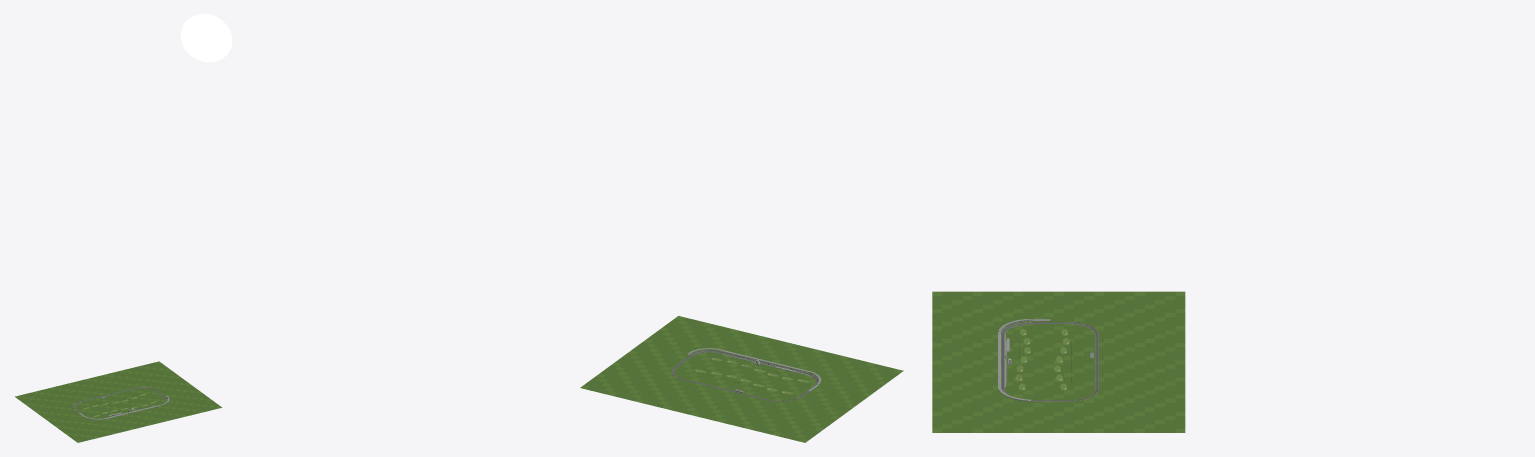
Rendered from brickyard.glb.
3 views of the same model, side by side, from view 1: azimuth 30°, elevation 25°; view 2: azimuth 150°, elevation 25°; view 3: azimuth 270°, elevation 25° (orthographic). The views are drawn at different scales.
Parts seen in each view (by area): view 1: Sun, Land_022, Land_005, Land_008, Land_028, Land_036, Land_047, Land_010, Land_019, Land_011, Land_046, Land_035 (+14 smaller); view 2: Land_022, Land_008, Land_005, Land_028, Land_036, Land_010, Land_047, Land_019, Land_046, Land_011, Land_016, Land_035 (+8 smaller); view 3: Land_022, Land_008, Land_005, Land_028, Land_010, Land_036, Land_047, Land_019, Land_046, Land_011, Land_016, Land_042 (+22 smaller).
Part boxes in pixels (x1,y1,x2,y2): Sun: (180,14,232,62); Land_022: (129,361,176,390); Land_005: (141,362,186,392); Land_008: (85,376,130,403); Land_028: (17,394,88,414); Land_036: (156,394,217,415); Land_047: (58,414,109,442); Land_010: (50,382,93,402); Land_019: (154,399,221,415); Land_011: (15,392,78,413); Land_046: (48,408,102,426); Land_035: (135,398,182,421); Land_022: (580,363,687,399); Land_008: (676,374,749,416); Land_005: (587,356,690,391); Land_028: (776,392,836,441); Land_036: (651,317,732,358); Land_010: (717,395,771,429); Land_047: (796,360,903,393); Land_019: (667,316,735,359); Land_046: (775,382,867,405); Land_011: (770,399,840,442); Land_016: (747,344,814,383); Land_035: (711,331,766,371); Land_022: (1078,390,1185,432); Land_008: (1053,357,1185,372); Land_005: (1072,390,1185,432); Land_028: (1065,291,1185,335); Land_010: (1094,326,1185,347); Land_036: (932,390,1023,432); Land_047: (932,291,1033,335); Land_019: (932,387,1023,432); Land_046: (1013,291,1053,342); Land_011: (1076,291,1185,330); Land_016: (932,347,1053,362); Land_042: (1053,350,1185,364).
Bounding box in the file's own units: 5175 × 4581 × 4648.
